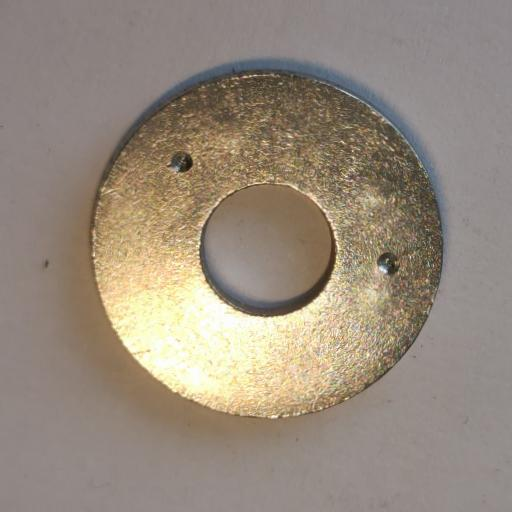circular_cavity: (376, 251, 400, 275), (169, 152, 193, 173)
